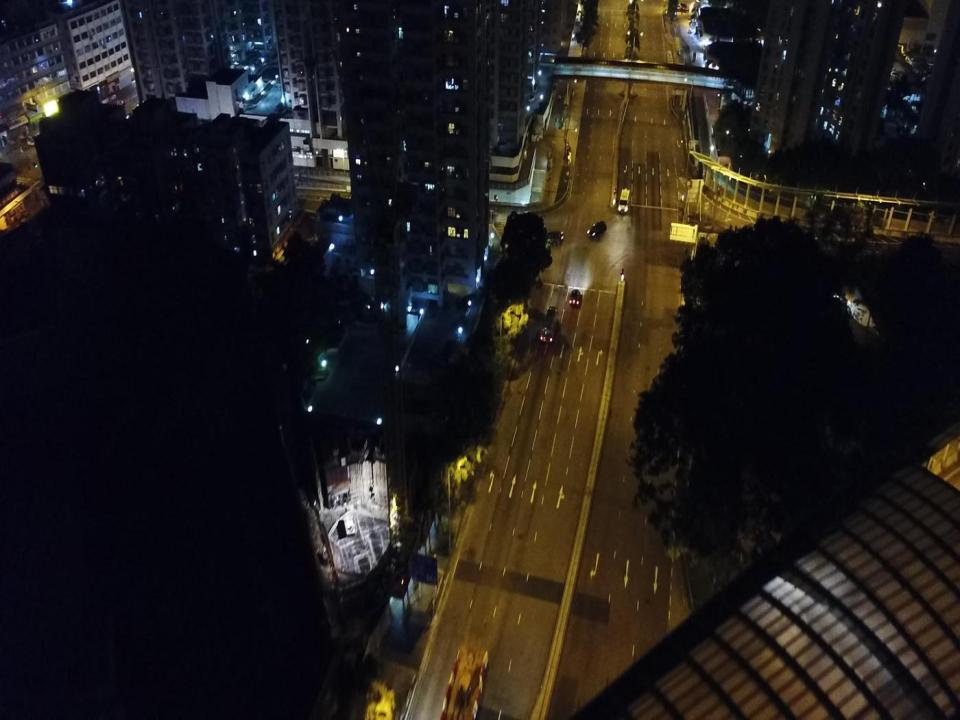bus: (539, 305, 558, 345), (26, 124, 47, 146)
car: (586, 219, 607, 238), (542, 230, 564, 246), (568, 289, 581, 306)
van: (617, 187, 631, 214)
